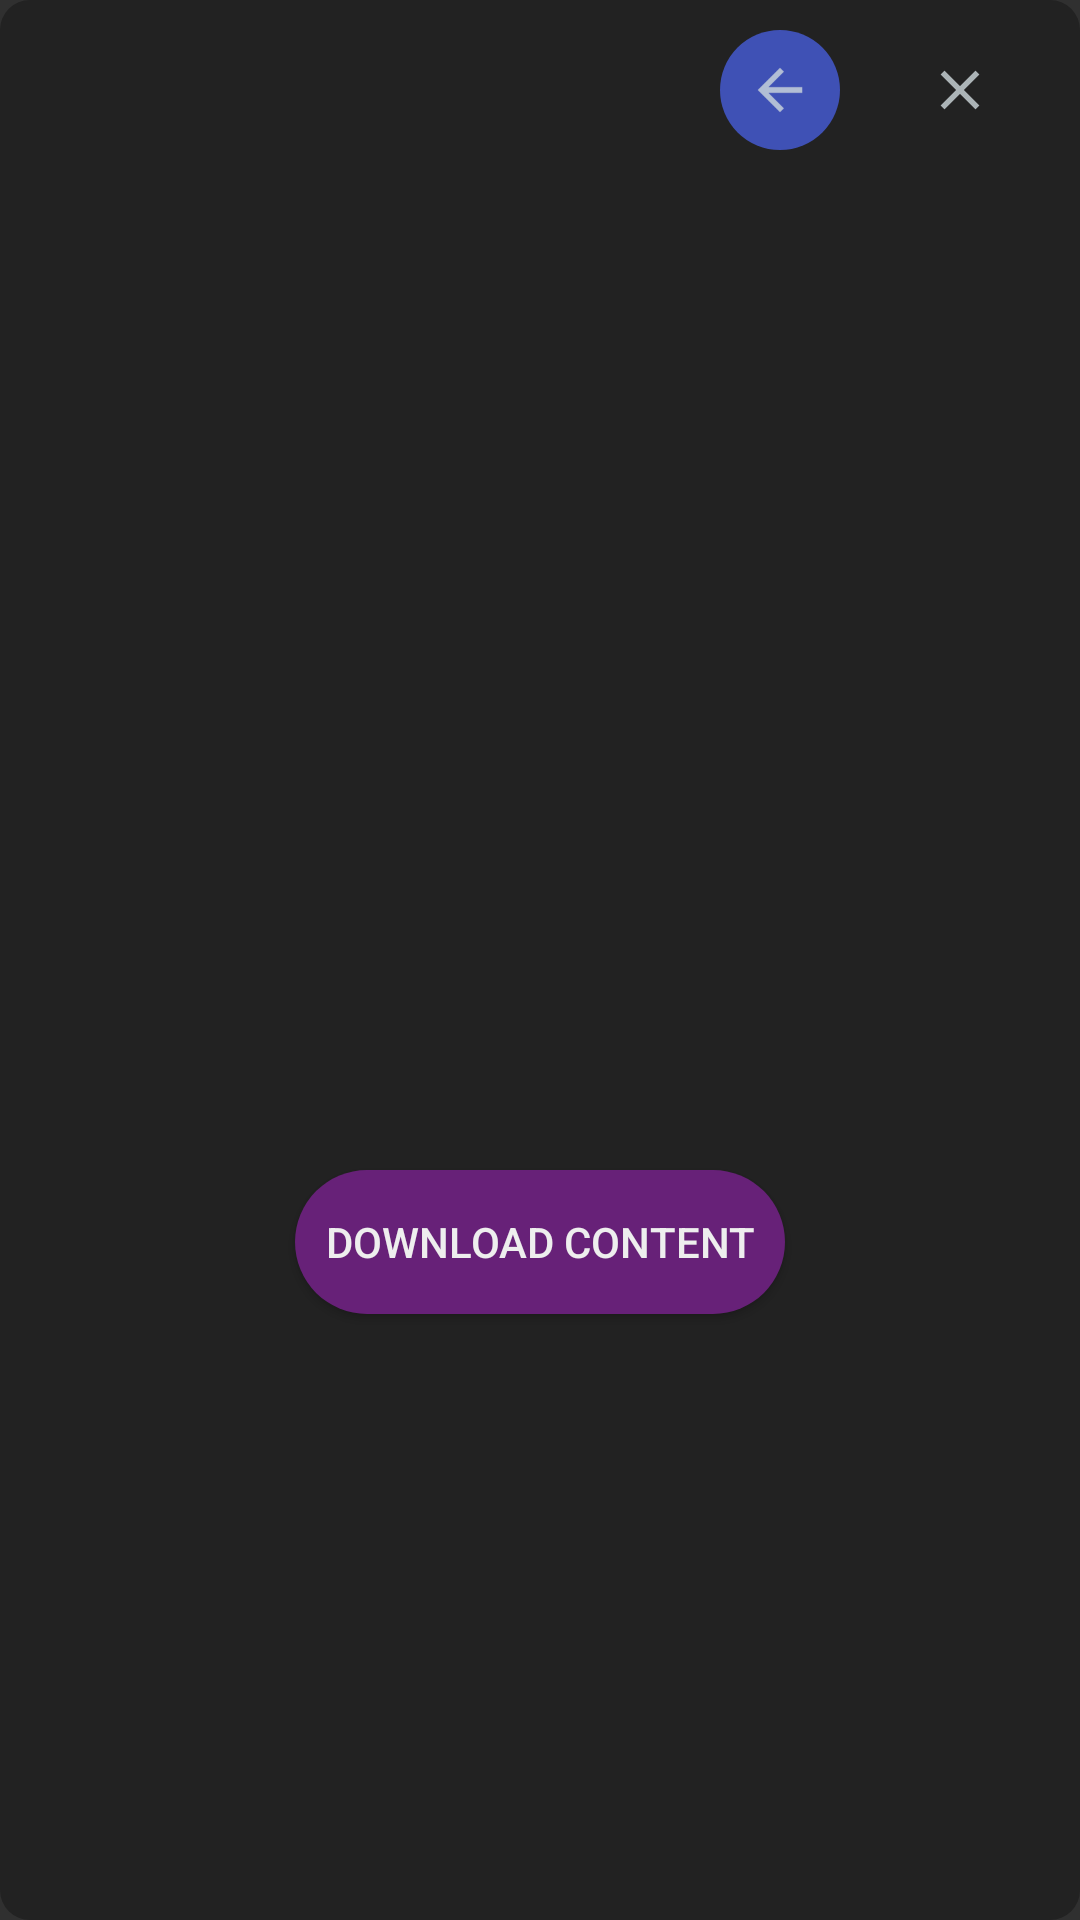

Icon click points for this 1080px×1920px phone screenshot, format [x,y]:
Back: [780,90]
Close: [960,90]
